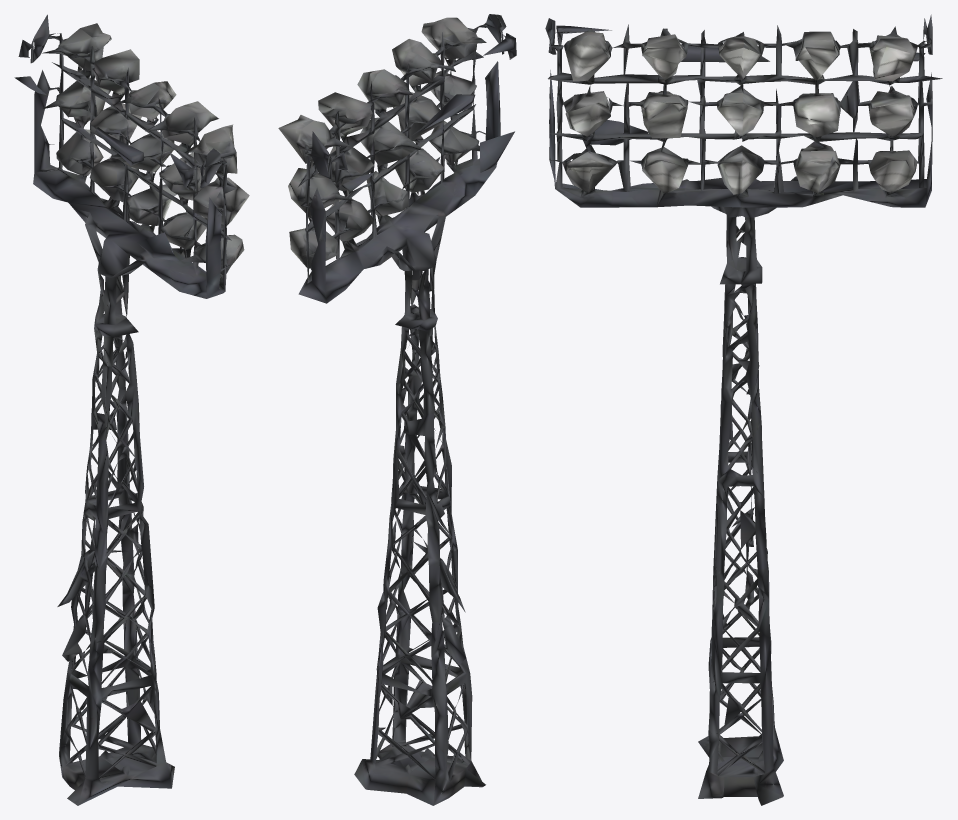
Rendered from floodlight.glb.
3 renders of one model, left to right at view 1: azimuth 30°, elevation 25°; view 2: azimuth 150°, elevation 25°; view 3: azimuth 270°, elevation 25°, orthographic. The views are drawn at different scales.
Visible parts, largest first — view 1: node_98a4e801-bac0-4bb4-951a-478b99508647; view 2: node_98a4e801-bac0-4bb4-951a-478b99508647; view 3: node_98a4e801-bac0-4bb4-951a-478b99508647.
Boxes of the visible parts, box(x1,y1,x2,y2) form: node_98a4e801-bac0-4bb4-951a-478b99508647: box(14, 14, 249, 805); node_98a4e801-bac0-4bb4-951a-478b99508647: box(278, 14, 516, 805); node_98a4e801-bac0-4bb4-951a-478b99508647: box(545, 14, 942, 805).
Size of the model in its own units: 0.1754 by 0.999 by 0.4651.
Materials: 1 (1 with a texture image).
